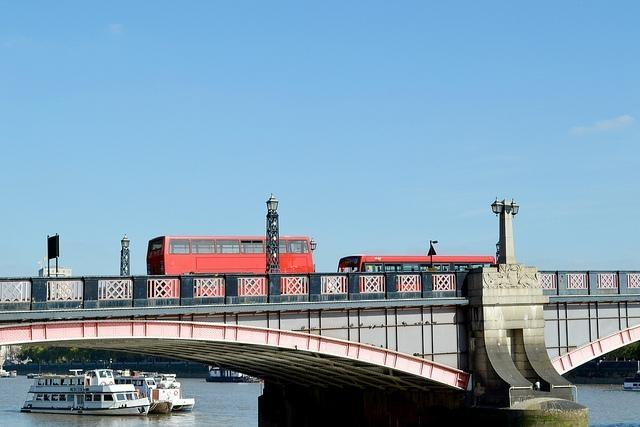bus: (146, 236, 316, 279), (338, 260, 496, 276)
